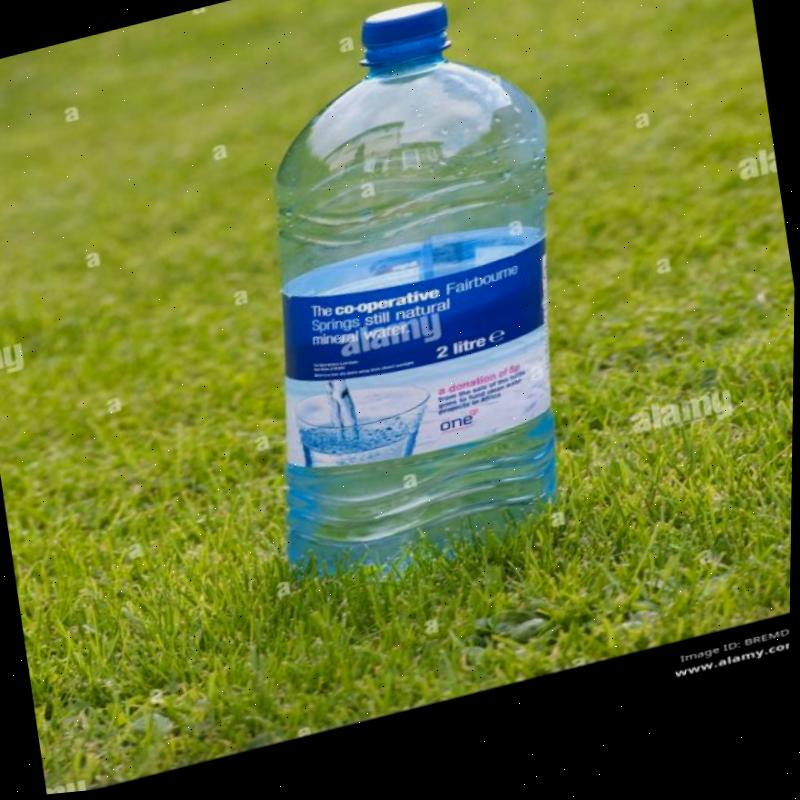botella: (193, 0, 618, 633)
